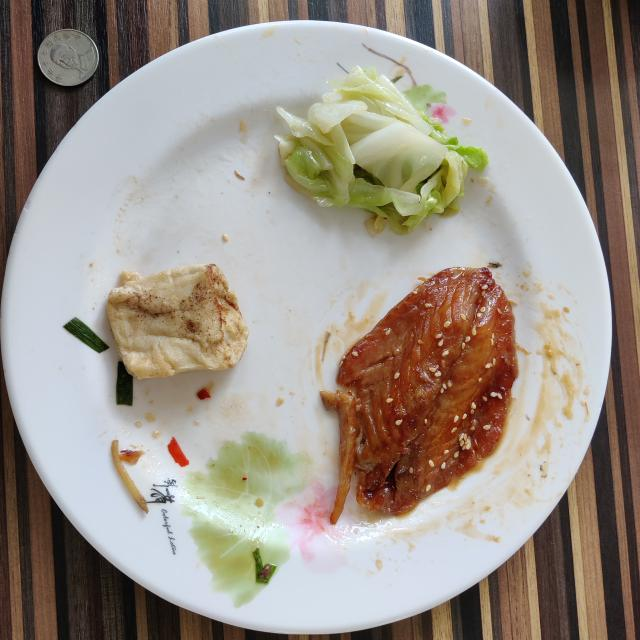Kabayaki sea bream fillet: (321, 268, 518, 522)
cabbage: (279, 66, 489, 234)
coin: (38, 29, 99, 86)
creamy tofu -without sauce-: (106, 265, 249, 379)
